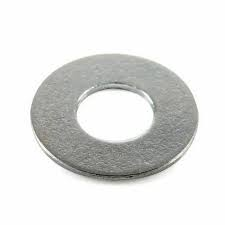No thread: (75, 76, 165, 145)
